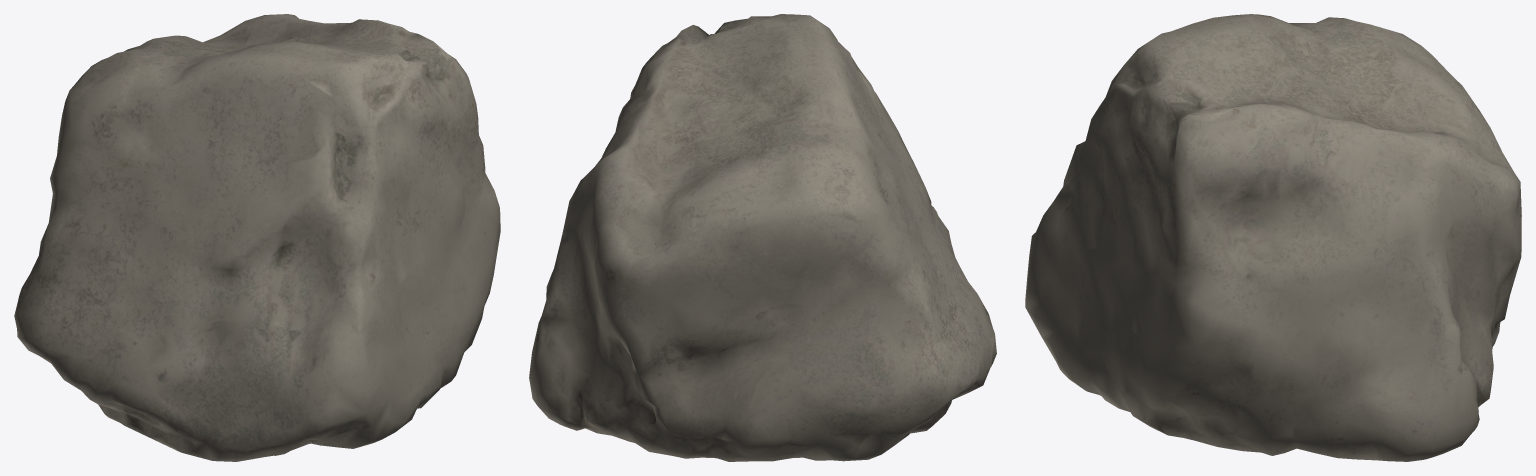
Rendered from moon_rock_02.glb.
3 renders of one model, left to right at view 1: azimuth 30°, elevation 25°; view 2: azimuth 150°, elevation 25°; view 3: azimuth 270°, elevation 25°, orthographic. The views are drawn at different scales.
Visible parts, largest first — view 1: lod0; view 2: lod0; view 3: lod0.
Boxes of the visible parts, box(x1,y1,x2,y2) form: lod0: box(14, 14, 500, 461); lod0: box(529, 14, 996, 461); lod0: box(1025, 14, 1521, 461).
Size of what is drawn, in the model's own units: 1.77 by 1.45 by 1.8.
1 material, 1 textured.
